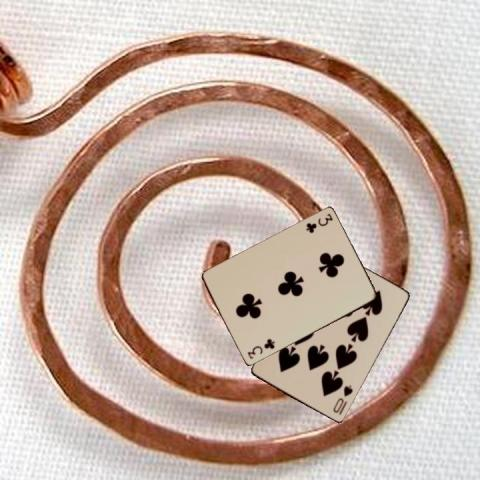10s: (330, 382, 355, 414)
3c: (245, 336, 276, 361), (303, 210, 334, 235)
